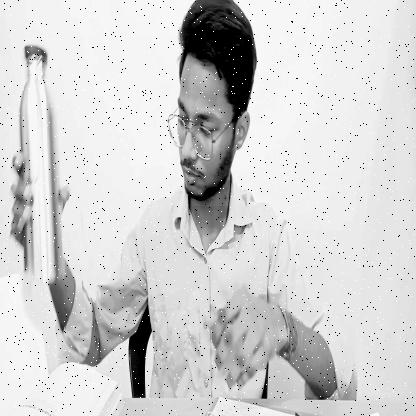Distracted: (173, 4, 255, 206)
